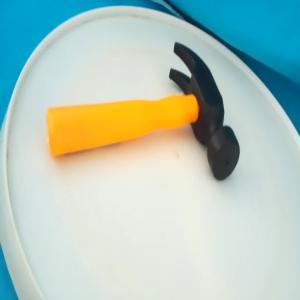martelo: (46, 38, 242, 186)
